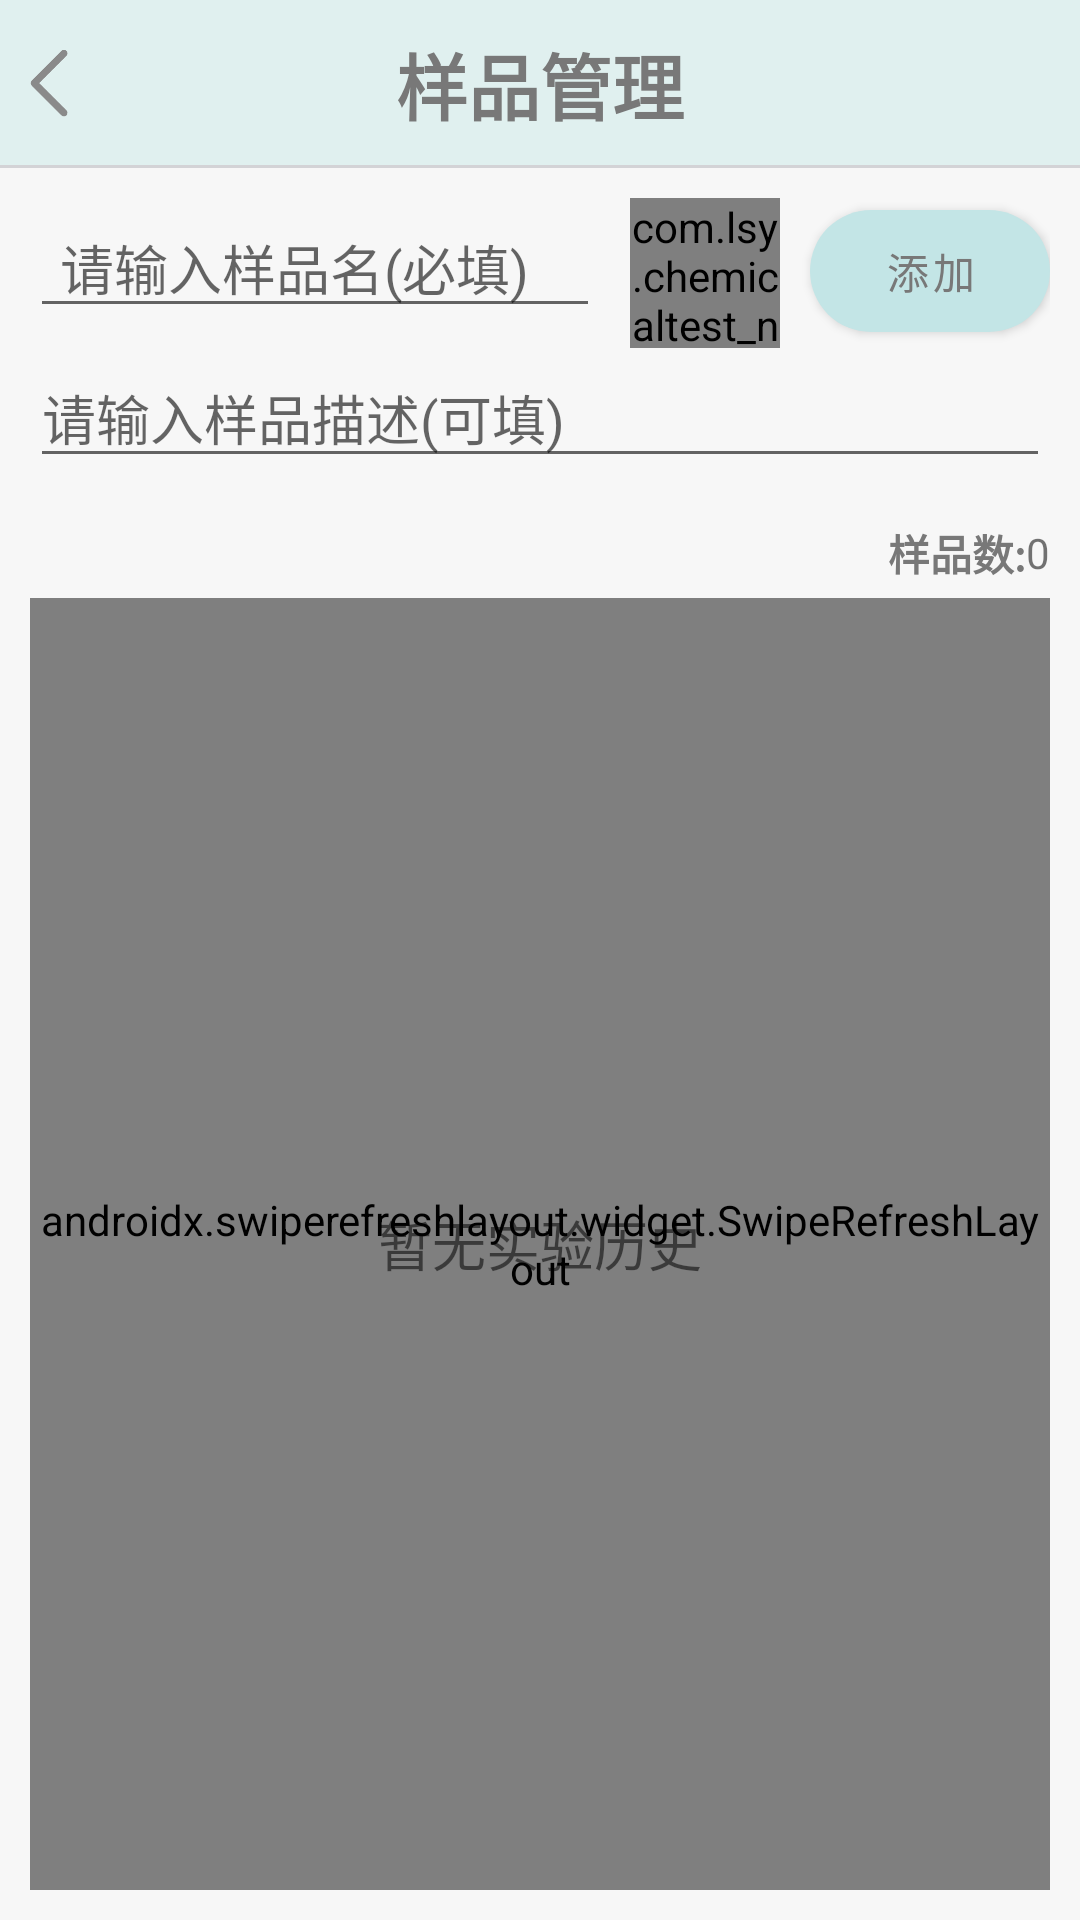

Screen size 1080px x 1920px. Icon name, then its center in pixels as point (x, y):
back: point (49, 83)
